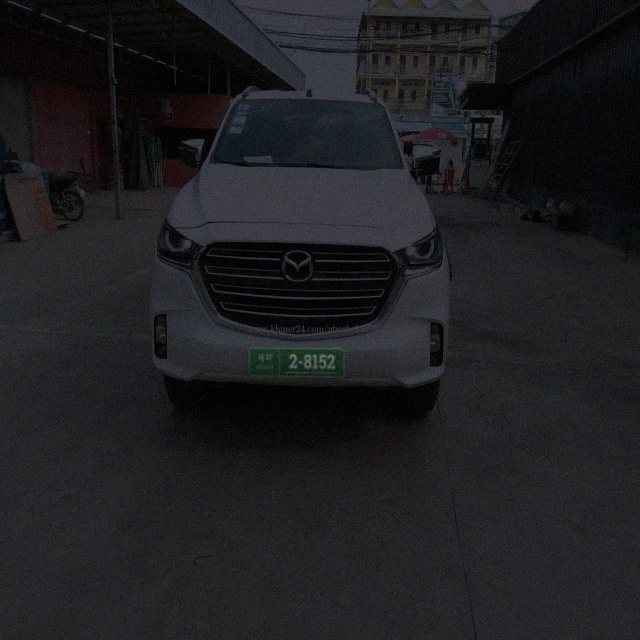Plate Number: (248, 348, 345, 378)
